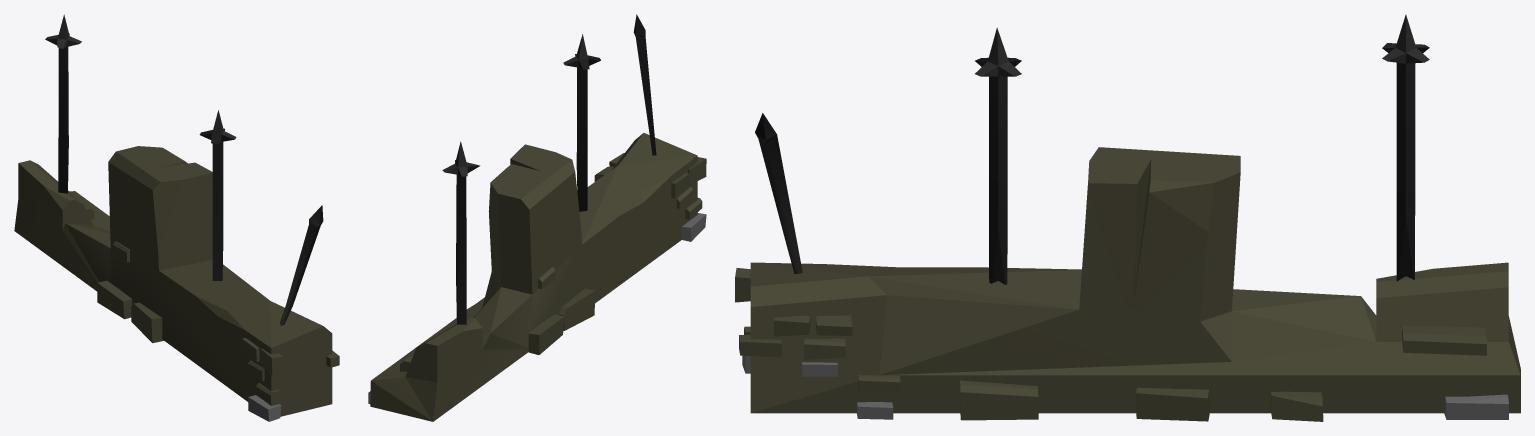
The model's file is ea_arch_wall03_ruin_01b.001_lev1.glb.
3 renders of one model, left to right at view 1: azimuth 30°, elevation 25°; view 2: azimuth 150°, elevation 25°; view 3: azimuth 270°, elevation 25°, orthographic. The views are drawn at different scales.
Parts seen in each view (by area): view 1: ea_arch_wall03_ruin_01b.001_lev1; view 2: ea_arch_wall03_ruin_01b.001_lev1; view 3: ea_arch_wall03_ruin_01b.001_lev1.
Part boxes in pixels (x1,y1,x2,y2): ea_arch_wall03_ruin_01b.001_lev1: (14,14,339,421); ea_arch_wall03_ruin_01b.001_lev1: (368,14,706,421); ea_arch_wall03_ruin_01b.001_lev1: (735,14,1520,421).
Size of the model in its own units: 0.9666 by 2.76 by 5.35.
Materials: 1 (1 with a texture image).
